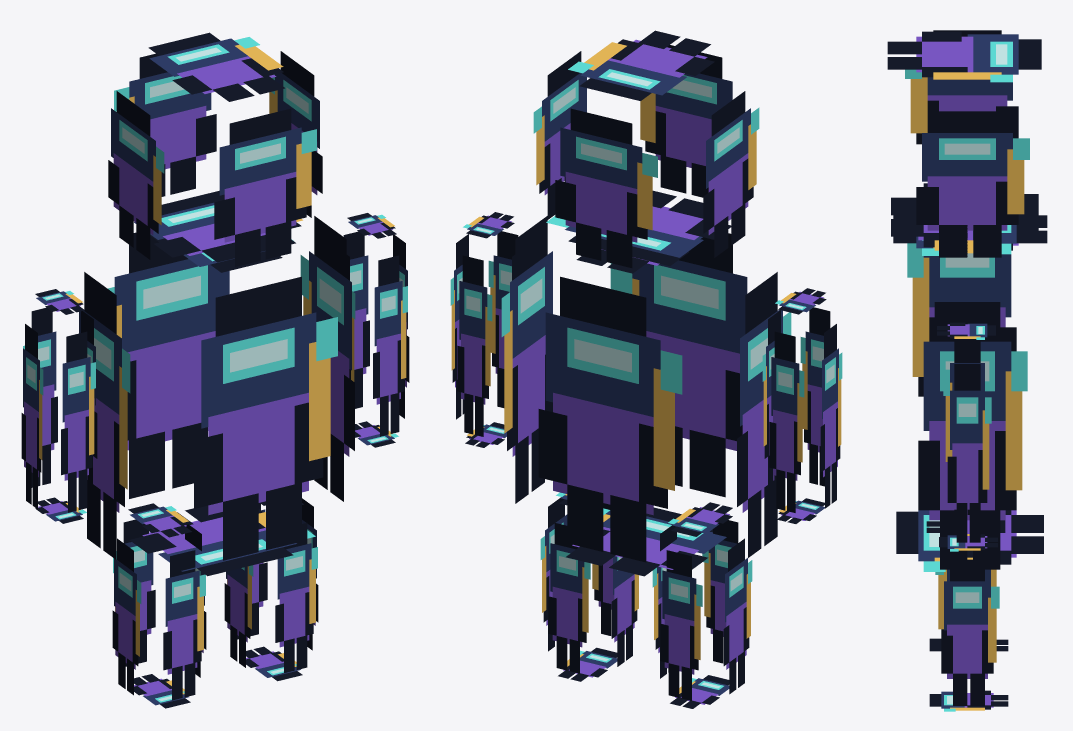
Rendered from survivor.glb.
3 views of the same model, side by side, from view 1: azimuth 30°, elevation 25°; view 2: azimuth 150°, elevation 25°; view 3: azimuth 270°, elevation 25° (orthographic).
Visible parts, largest first — view 1: body, head, leg-left, arm-left, arm-right, leg-right; view 2: body, head, leg-left, arm-left, arm-right, leg-right; view 3: body, head, arm-right, leg-right, leg-left.
Part boxes in pixels (x1=…): body: x1=79, y1=190, x2=354, y2=576; head: x1=108, y1=32, x2=322, y2=272; leg-left: x1=112, y1=503, x2=206, y2=708; arm-left: x1=21, y1=289, x2=97, y2=523; arm-right: x1=343, y1=213, x2=409, y2=447; leg-right: x1=224, y1=498, x2=318, y2=681; body: x1=501, y1=190, x2=791, y2=576; head: x1=533, y1=30, x2=759, y2=273; leg-left: x1=652, y1=502, x2=752, y2=708; arm-left: x1=762, y1=288, x2=842, y2=523; arm-right: x1=450, y1=212, x2=518, y2=447; leg-right: x1=540, y1=492, x2=638, y2=681; body: x1=891, y1=183, x2=1043, y2=571; head: x1=887, y1=30, x2=1047, y2=257; arm-right: x1=937, y1=322, x2=997, y2=551; leg-right: x1=926, y1=520, x2=1008, y2=711; leg-left: x1=929, y1=569, x2=1008, y2=651.
Size of the model in its own units: 1.84 by 2.92 by 0.78.
Materials: 1 (1 with a texture image).
